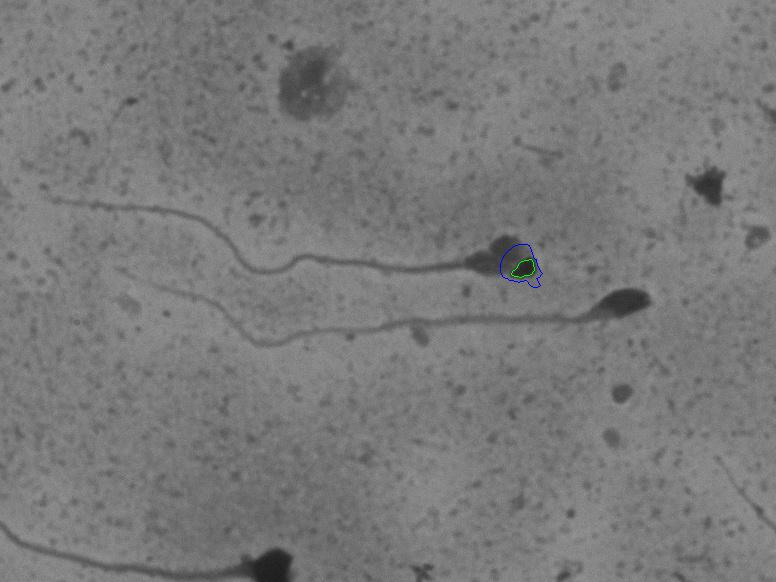Abnormal: (60, 267, 669, 371)
